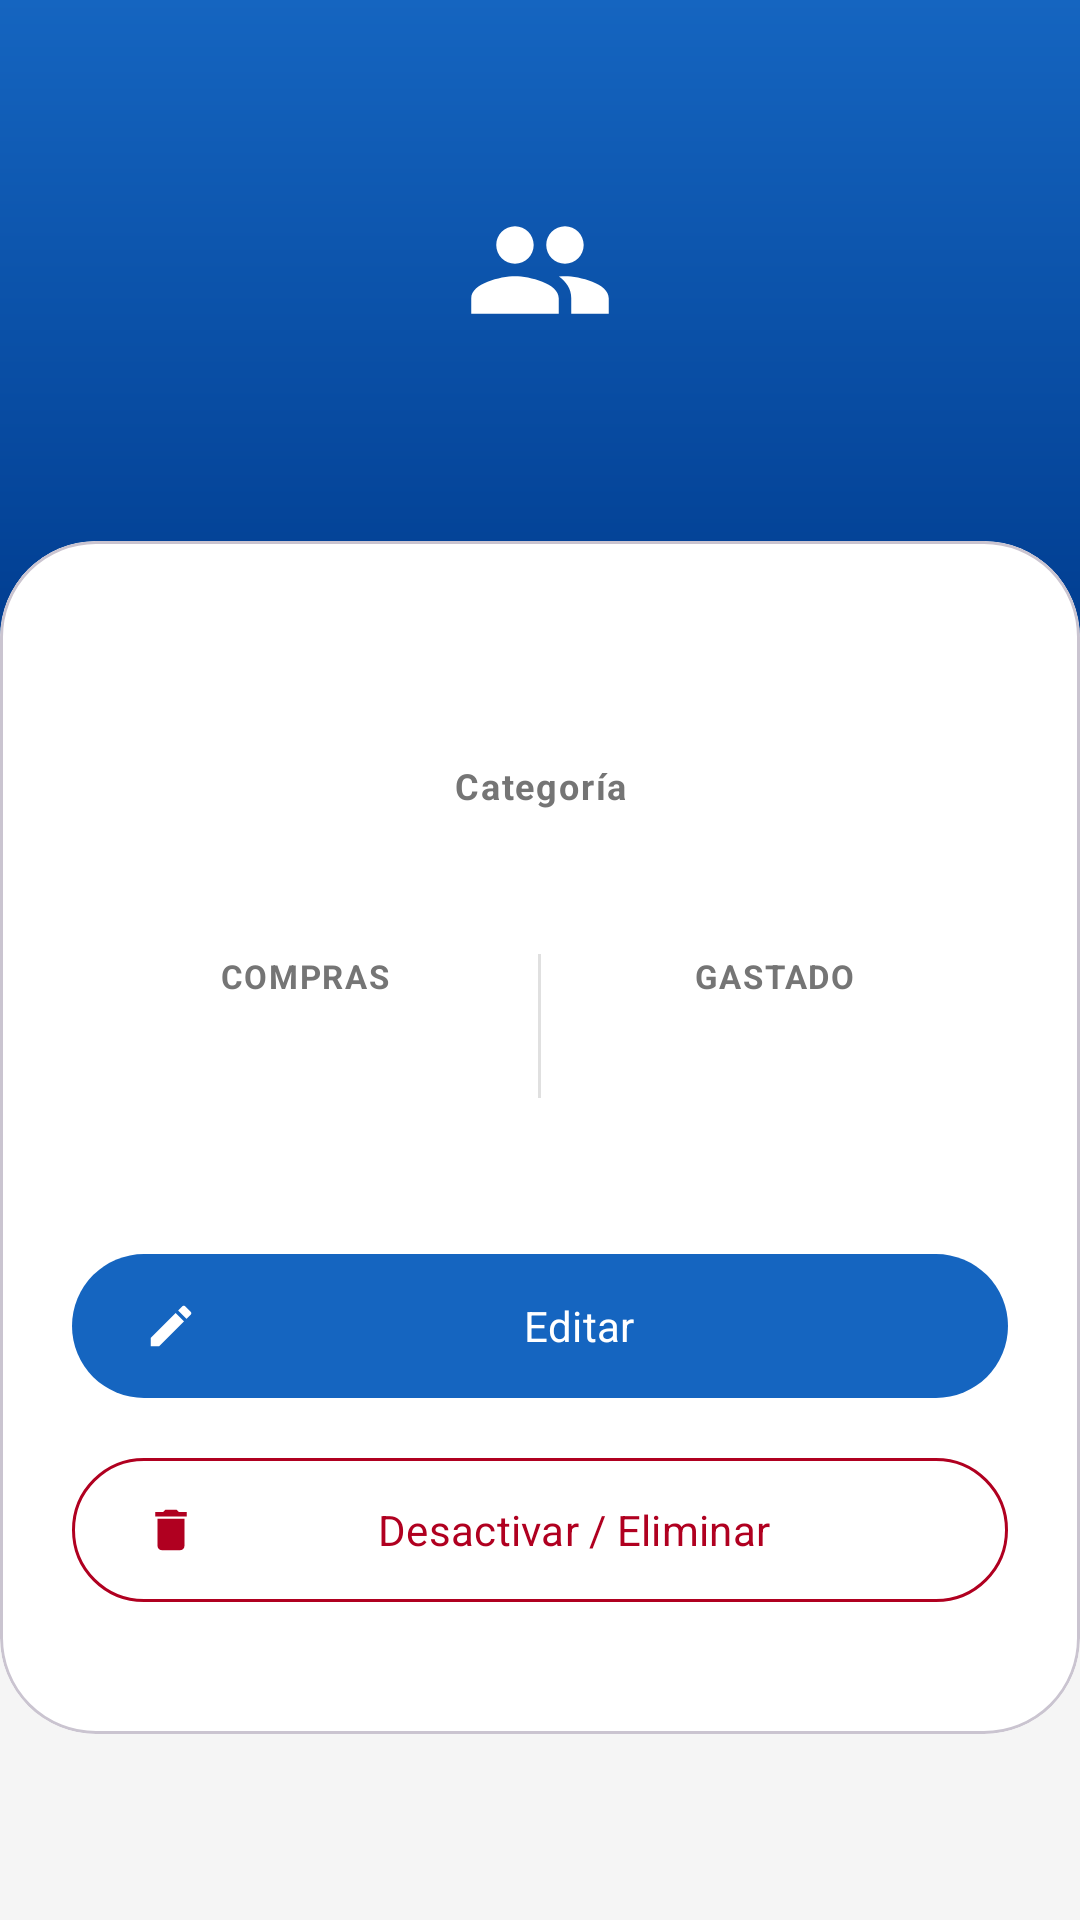

Named icons in this screenshot (1080 × 1920) and their bounding boxes, [x1=x1, y1=y1, x2=x2, y2=y2]:
Avatar: [x1=471, y1=226, x2=609, y2=314]
